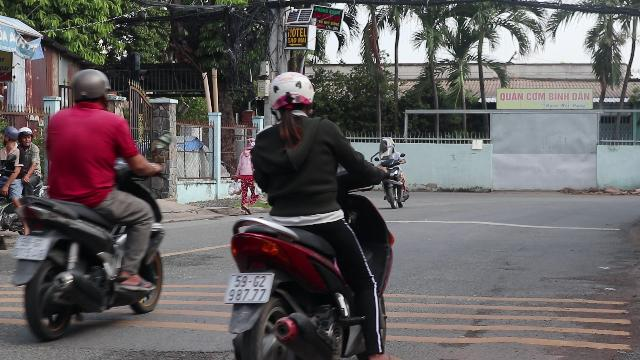helmet: (267, 70, 317, 120), (66, 68, 110, 108)
licenseplate: (224, 273, 272, 302), (12, 236, 50, 258)
motorcyclist: (219, 69, 401, 355), (5, 68, 172, 338)
